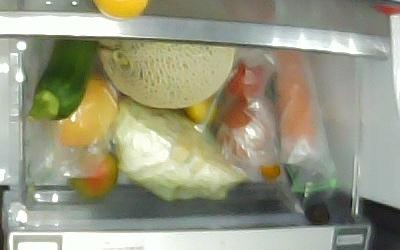cabbage: (112, 96, 248, 203)
carrot_vinyl: (274, 52, 319, 160)
melon: (96, 37, 234, 109)
pear_vinyl: (53, 76, 120, 147)
tomato: (68, 151, 119, 199)
tomato_vinyl: (217, 100, 278, 159), (224, 54, 261, 100)
zucchini: (21, 37, 96, 123)
